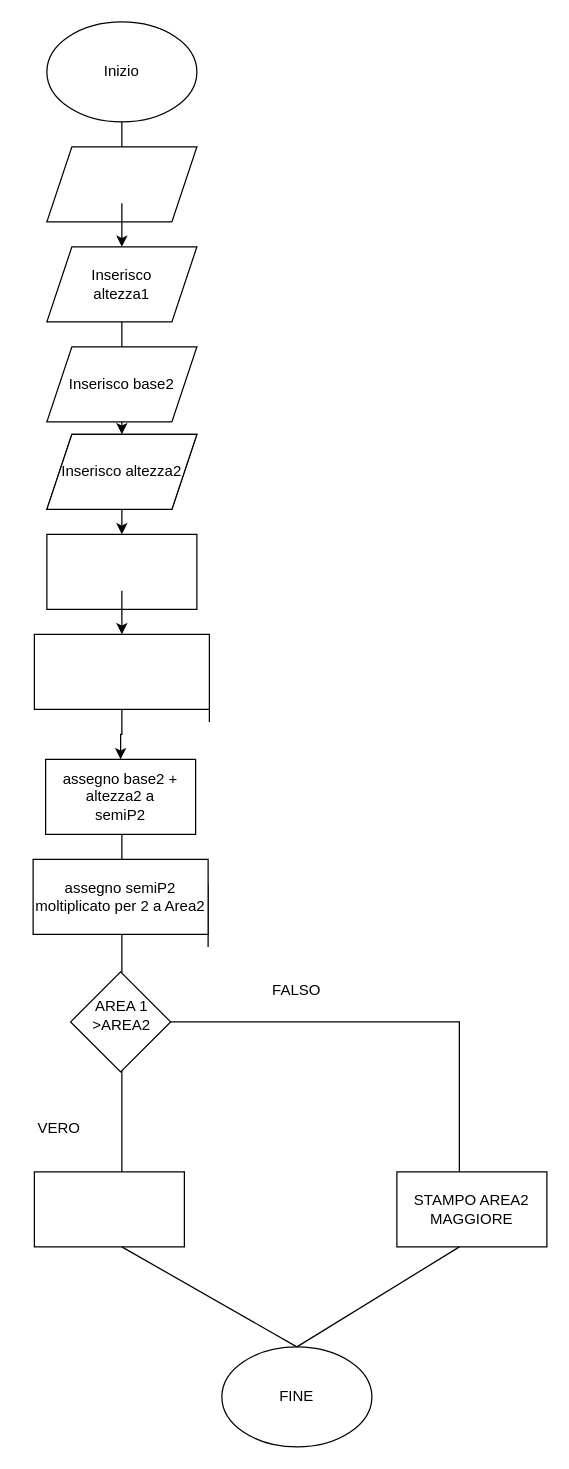
Image size: 569x1469. Some labels were removed from this diagram. Here are the shapes that lost their labels. From the top down, the centre of each, then its label:
(x=121, y=184): Inserisco base1
(x=121, y=571): assegno base1 + altezza1 a semiP1
(x=121, y=671): assegno semiP1 moltiplicato per 2 a Area1
(x=108, y=1209): STAMPO AREA1 MAGGIORE
